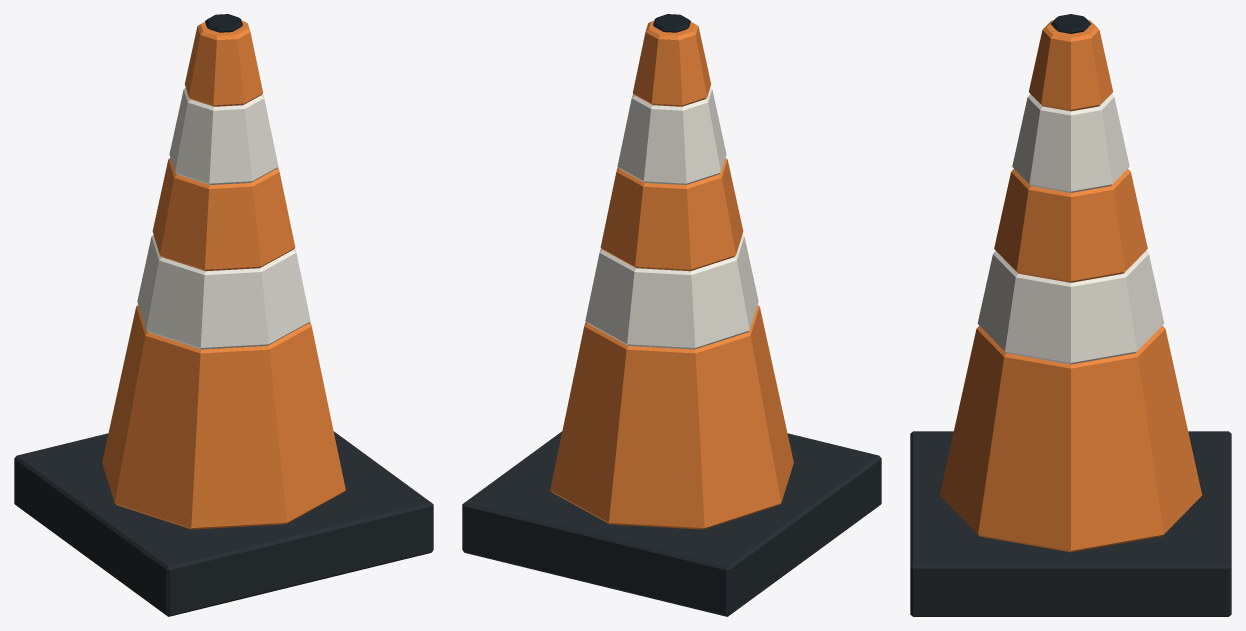
The model's file is b02_traffic_cone.glb.
3 views of the same model, side by side, from view 1: azimuth 30°, elevation 25°; view 2: azimuth 150°, elevation 25°; view 3: azimuth 270°, elevation 25° (orthographic). The views are drawn at different scales.
Visible parts, largest first — view 1: b02_traffic_cone; view 2: b02_traffic_cone; view 3: b02_traffic_cone.
Boxes of the visible parts, left/top/right/bottom form: b02_traffic_cone: left=14, top=14, right=433, bottom=616; b02_traffic_cone: left=462, top=14, right=881, bottom=616; b02_traffic_cone: left=910, top=14, right=1231, bottom=616.
Bounding box in the file's own units: 0.39 × 0.708 × 0.39.
